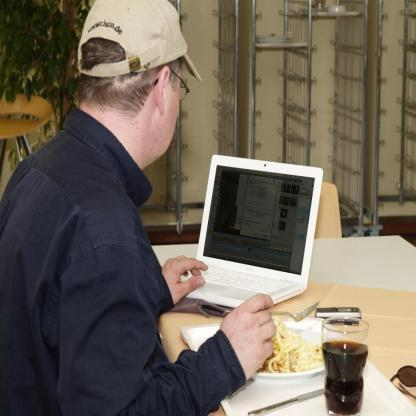board: (164, 141, 327, 318)
